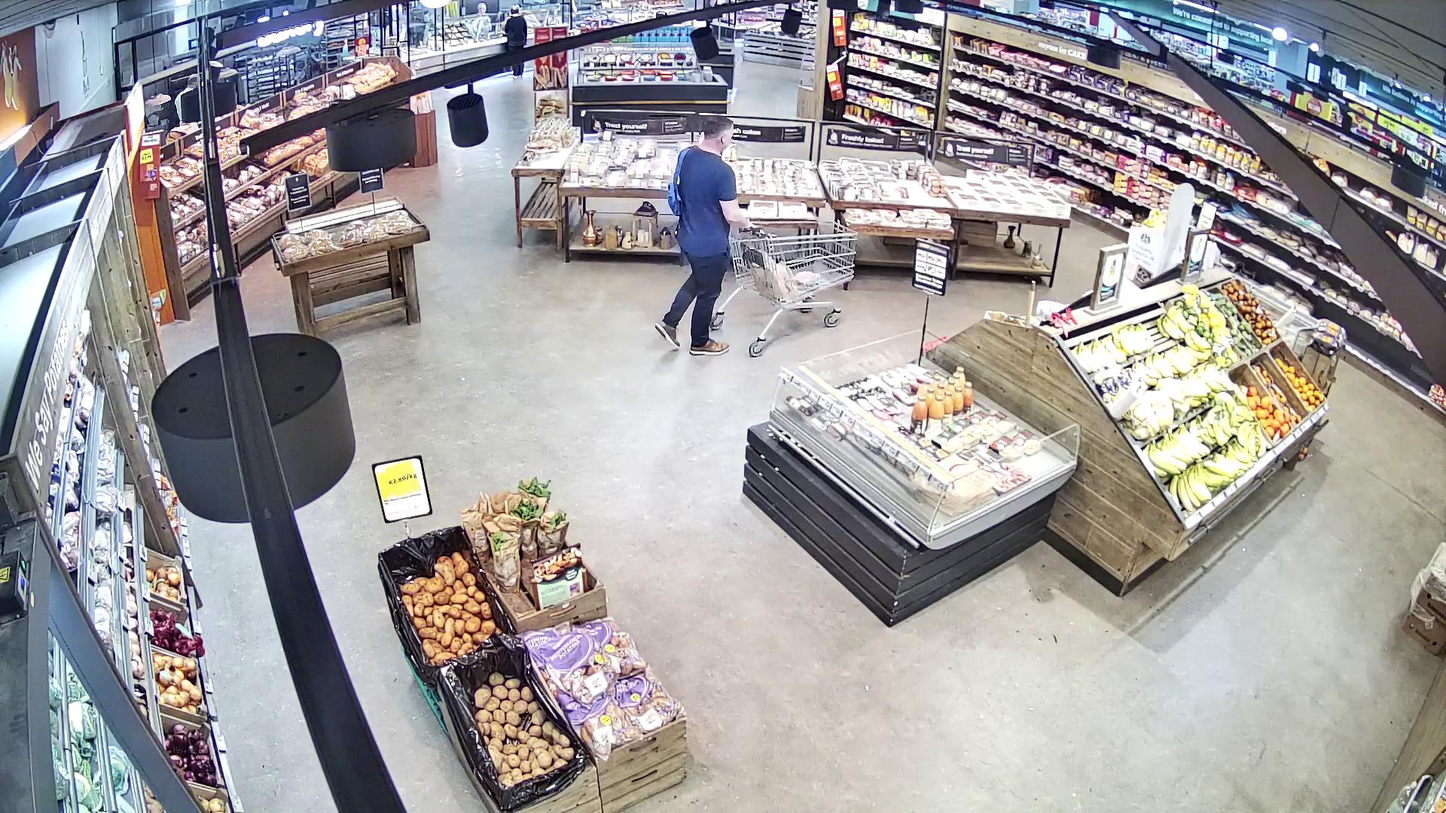filled-trolly: (709, 219, 859, 357)
